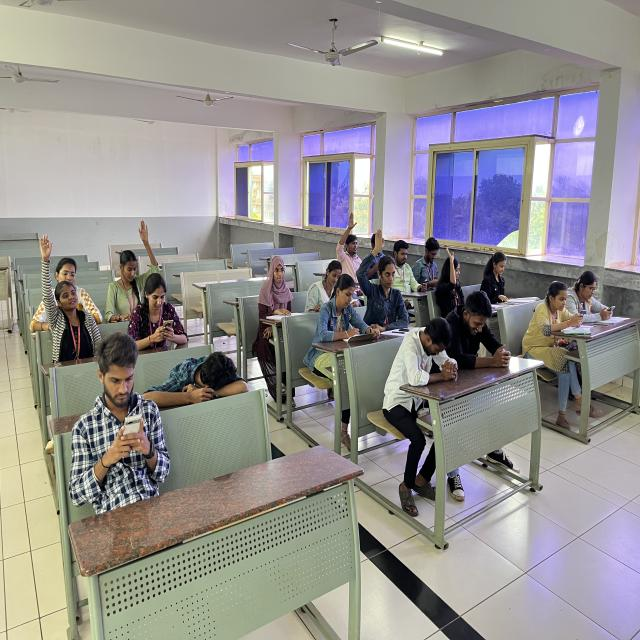Hand Rising: (21, 222, 104, 354), (90, 216, 173, 316), (362, 222, 409, 322), (326, 202, 368, 284), (440, 240, 475, 316)
Reading: (301, 248, 363, 312), (479, 251, 544, 307)
Sleeping: (148, 330, 255, 408)
Using Phone: (52, 334, 175, 548), (120, 271, 192, 356), (564, 258, 640, 332), (530, 276, 588, 354), (387, 227, 432, 300), (418, 220, 447, 288)
Writing: (319, 271, 381, 395)
